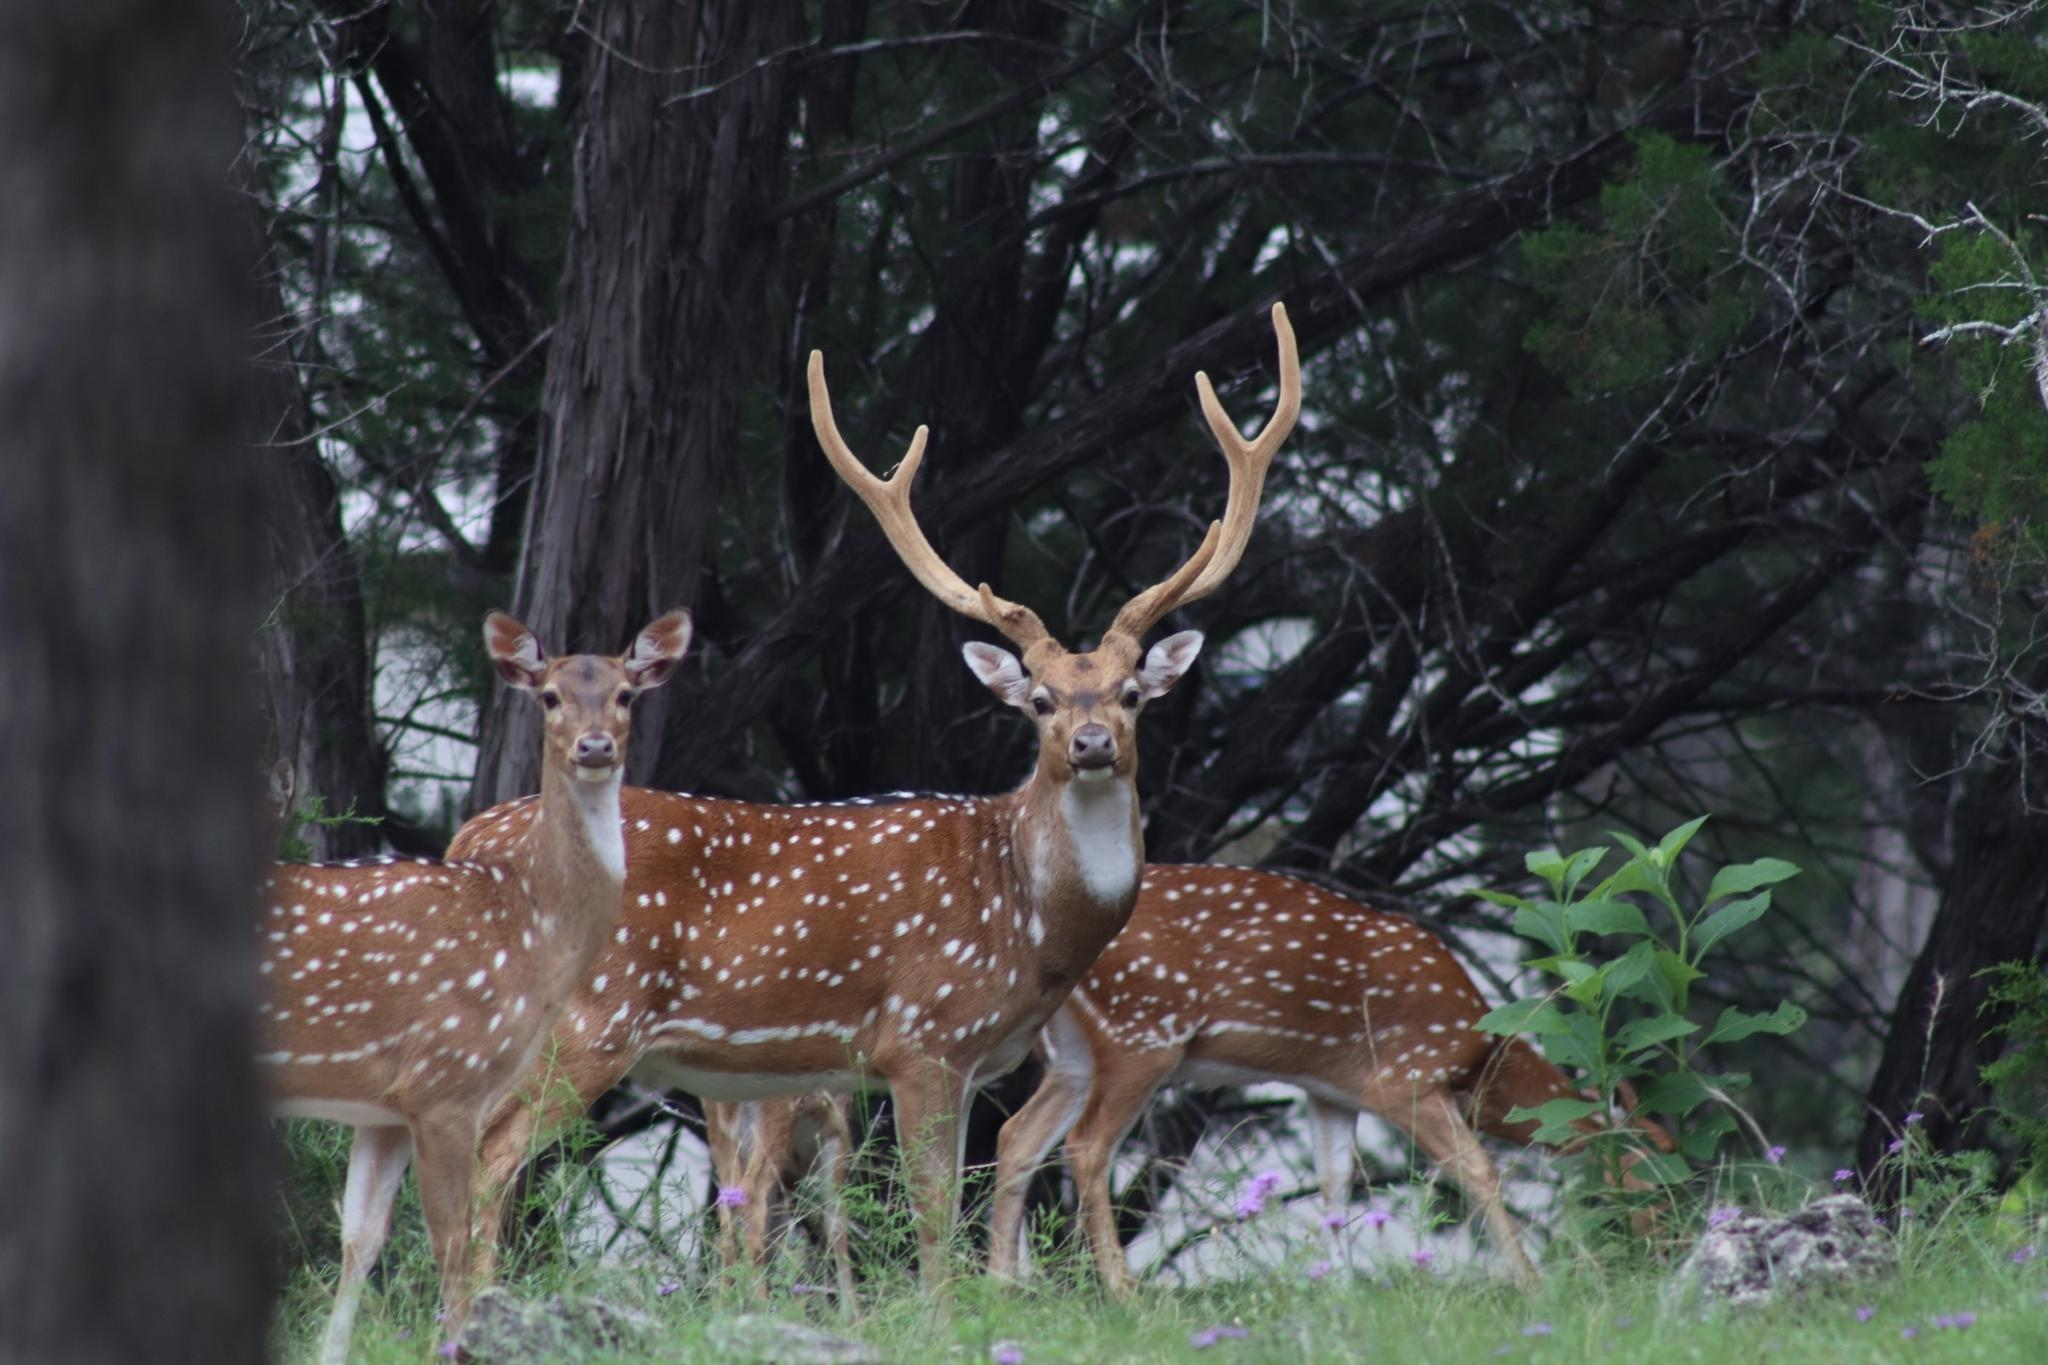Deer: (480, 305, 1300, 1245), (257, 609, 691, 1363), (991, 864, 1591, 1287)
